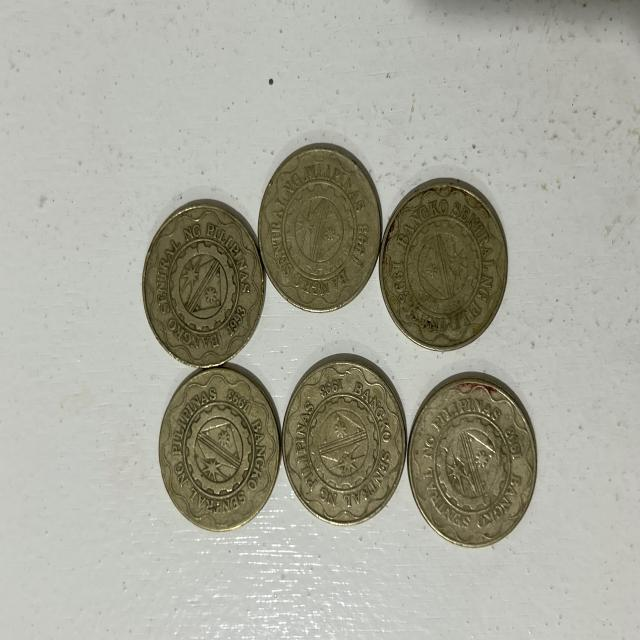5_Old_Back: (280, 349, 413, 526), (377, 175, 499, 358), (140, 200, 268, 371), (414, 378, 544, 542), (251, 147, 377, 316), (162, 364, 281, 537)
